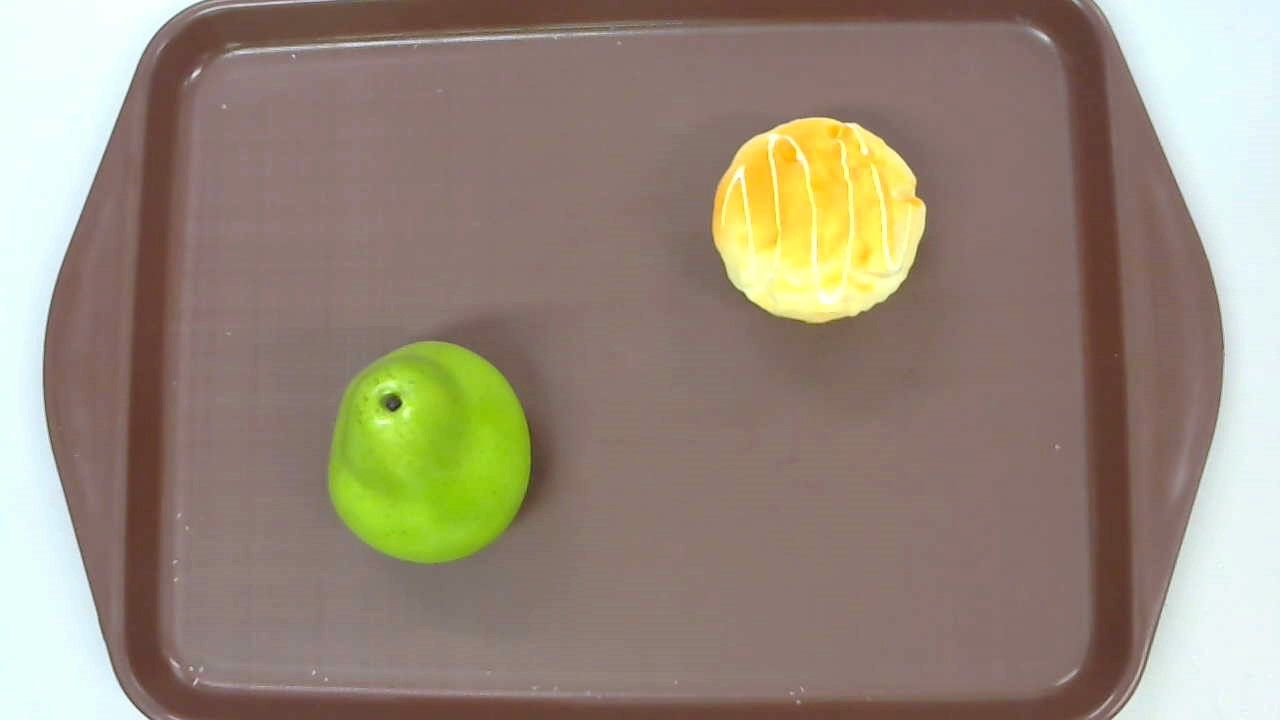cupcake: (711, 117, 926, 326)
green pear: (327, 340, 532, 563)
